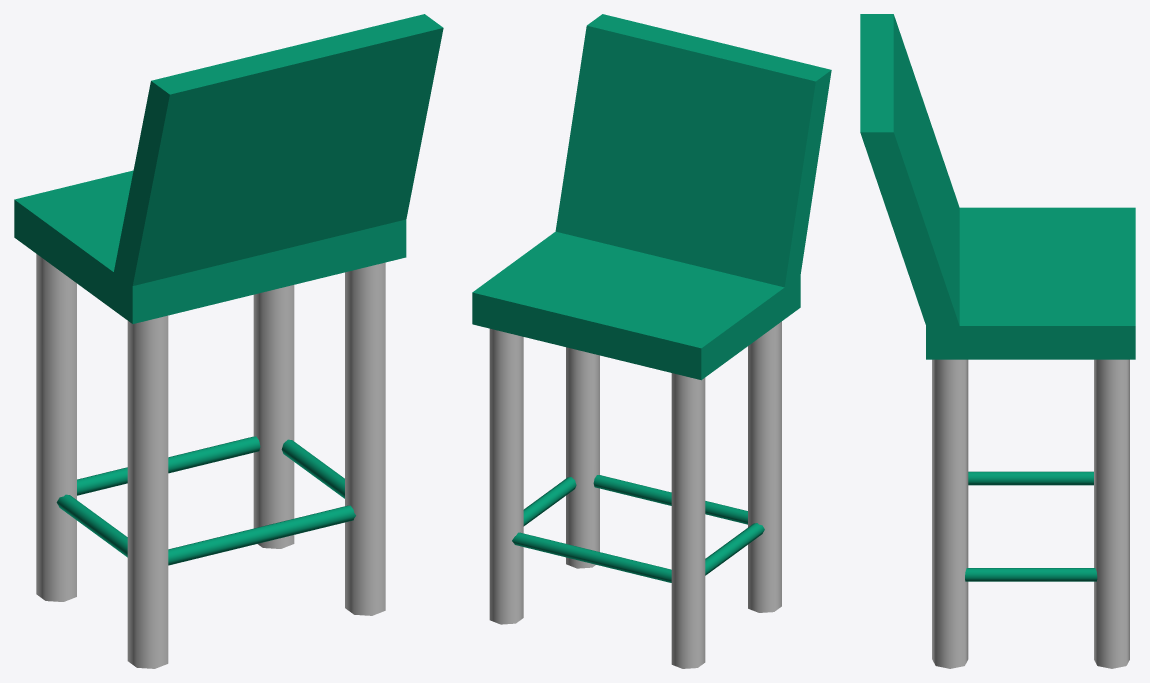
File: Kitchen_Bar_Chair1_Green.fbx
3 views of the same model, side by side, from view 1: azimuth 30°, elevation 25°; view 2: azimuth 150°, elevation 25°; view 3: azimuth 270°, elevation 25° (orthographic). The views are drawn at different scales.
Visible parts, largest first — view 1: Kitchen_Bar_Chair1_Green; view 2: Kitchen_Bar_Chair1_Green; view 3: Kitchen_Bar_Chair1_Green.
Boxes of the visible parts, x1,y1,x2,y2 form: Kitchen_Bar_Chair1_Green: (14, 14, 443, 668); Kitchen_Bar_Chair1_Green: (472, 14, 831, 668); Kitchen_Bar_Chair1_Green: (860, 14, 1135, 668).
Size of the model in its own units: 41.57 by 88.58 by 40.94.
